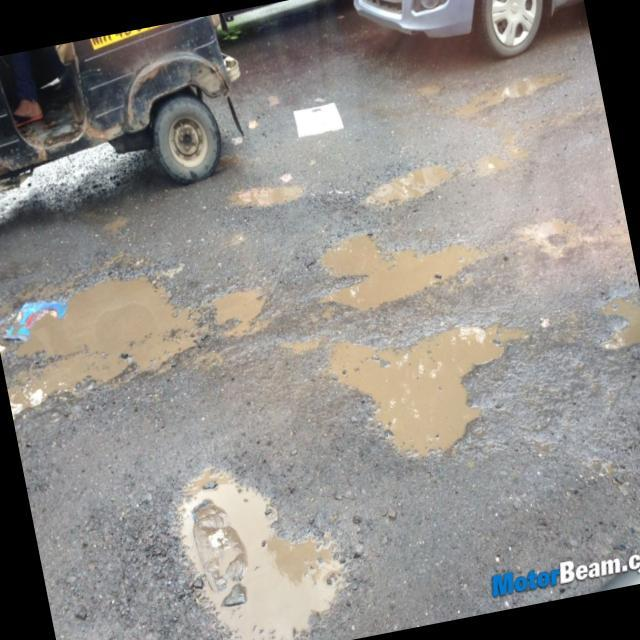Pothole: (158, 450, 373, 640), (326, 303, 540, 472), (0, 258, 205, 413), (300, 206, 494, 324), (359, 150, 464, 220), (438, 69, 570, 122), (202, 270, 288, 344), (515, 205, 614, 267), (584, 283, 640, 377), (224, 170, 310, 217), (476, 136, 523, 182), (412, 74, 452, 105)
